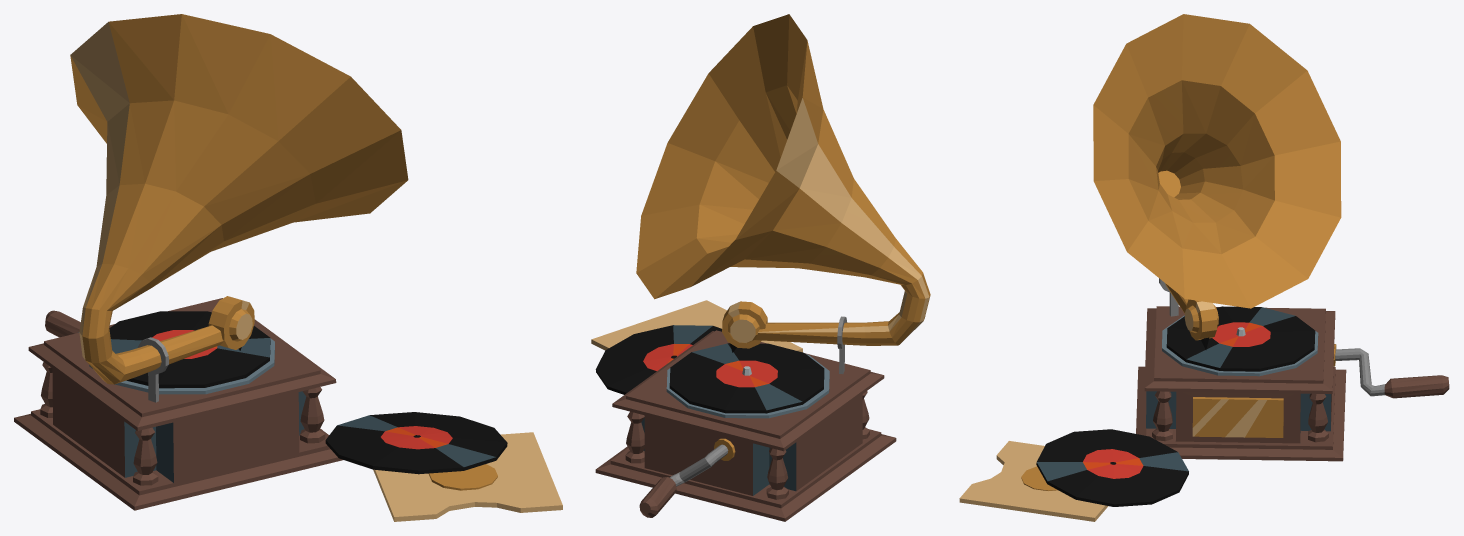
Rendered from Gramophone.glb.
3 renders of one model, left to right at view 1: azimuth 30°, elevation 25°; view 2: azimuth 150°, elevation 25°; view 3: azimuth 270°, elevation 25°, orthographic. The views are drawn at different scales.
Visible parts, largest first — view 1: node_MeshObject1441006592-PolyPaper20; view 2: node_MeshObject1441006592-PolyPaper20; view 3: node_MeshObject1441006592-PolyPaper20.
Boxes of the visible parts, x1,y1,x2,y2 form: node_MeshObject1441006592-PolyPaper20: (14,14,562,521); node_MeshObject1441006592-PolyPaper20: (591,14,930,521); node_MeshObject1441006592-PolyPaper20: (959,14,1449,521).
Size of the model in its own units: 0.9027 by 0.9511 by 1.09.
